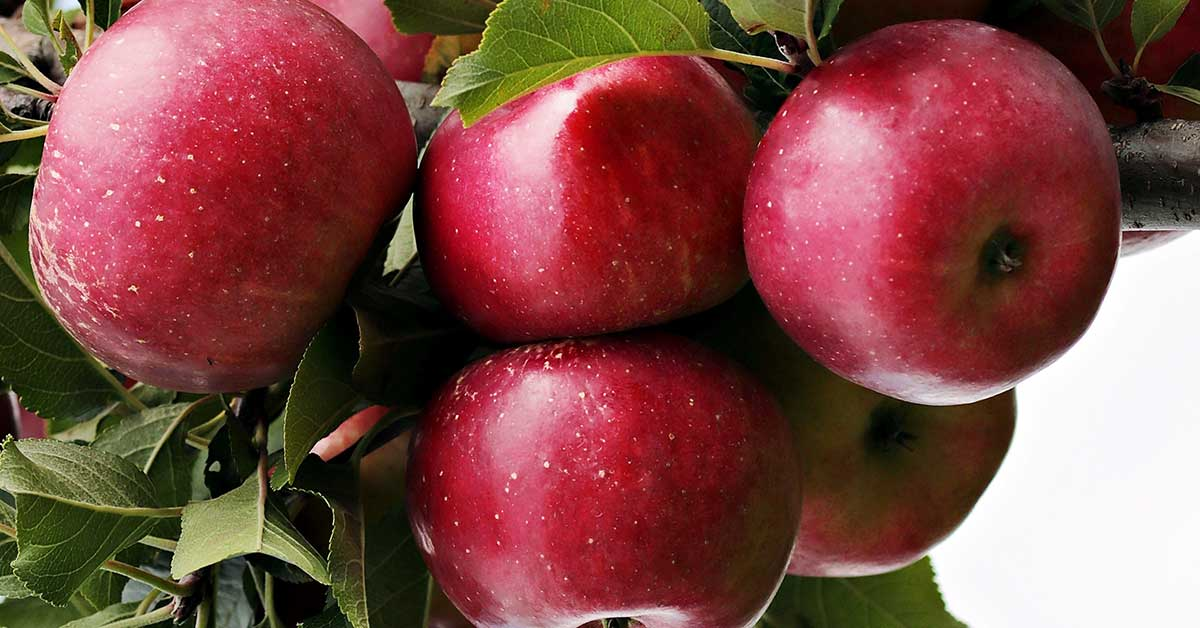apple: (399, 326, 854, 628)
